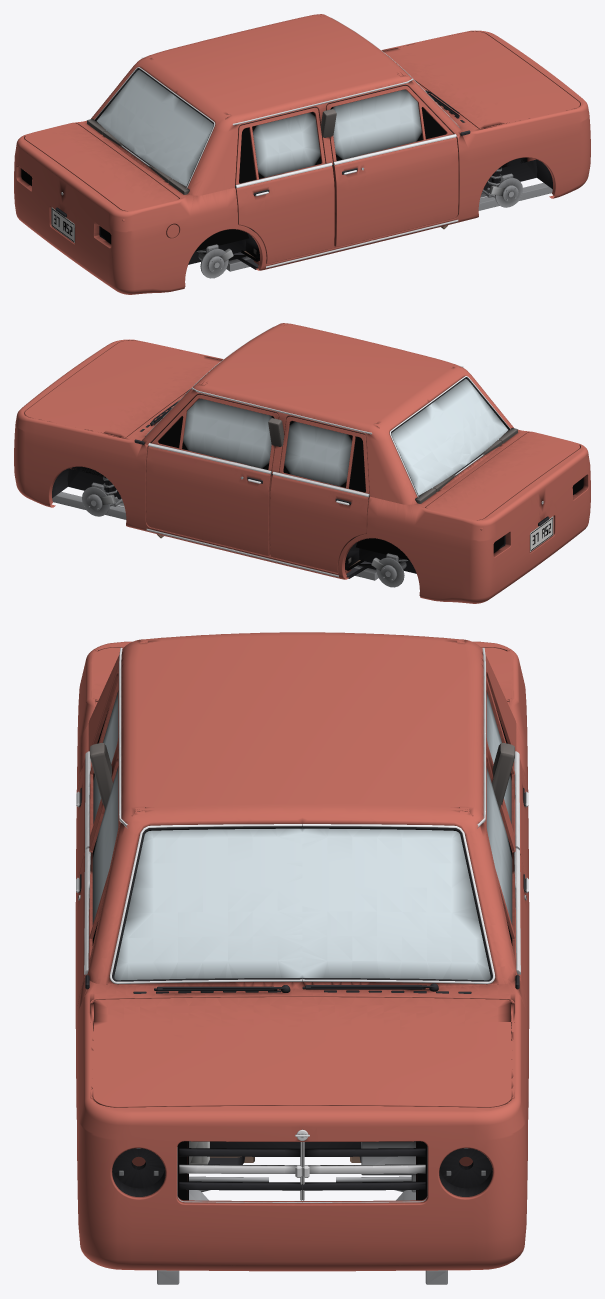
The model's file is sedan.glb.
3 views of the same model, one above another, from view 1: azimuth 30°, elevation 25°; view 2: azimuth 150°, elevation 25°; view 3: azimuth 270°, elevation 25° (orthographic). The views are drawn at different scales.
Parts seen in each view (by area): view 1: BODY, P_door_FR, P_hood, P_door_RR, GLASS, P_trunk, PG_door_FR, UNDER, PG_door_RR, INTERIOR; view 2: BODY, P_door_FL, P_hood, P_door_RL, GLASS, P_trunk, PG_door_FL, UNDER, PG_door_RL, INTERIOR; view 3: BODY, GLASS, P_hood, INTERIOR, P_door_FL, P_door_FR, P_door_RL, P_door_RR, UNDER, PG_door_FL, PG_door_FR, P_trunk (+2 smaller).
Boxes of the visible parts, <box> form: BODY: <box>14,14,590,294</box>; P_door_FR: <box>326,85,458,246</box>; P_hood: <box>382,31,579,128</box>; P_door_RR: <box>235,107,334,263</box>; GLASS: <box>96,70,213,186</box>; P_trunk: <box>24,123,178,210</box>; PG_door_FR: <box>330,89,446,160</box>; UNDER: <box>188,157,552,278</box>; PG_door_RR: <box>239,112,321,183</box>; INTERIOR: <box>87,109,447,261</box>; BODY: <box>14,323,590,603</box>; P_door_FL: <box>146,394,278,555</box>; P_hood: <box>25,340,222,437</box>; P_door_RL: <box>270,416,369,572</box>; GLASS: <box>391,379,508,495</box>; P_trunk: <box>426,432,580,519</box>; PG_door_FL: <box>158,398,274,469</box>; UNDER: <box>52,466,416,587</box>; PG_door_RL: <box>283,421,365,492</box>; INTERIOR: <box>157,418,517,570</box>; BODY: <box>76,632,528,1271</box>; GLASS: <box>114,826,490,980</box>; P_hood: <box>93,997,511,1107</box>; INTERIOR: <box>90,742,514,1162</box>; P_door_FL: <box>484,750,529,1047</box>; P_door_FR: <box>75,750,120,1047</box>; P_door_RL: <box>486,664,529,923</box>; P_door_RR: <box>75,664,118,923</box>; UNDER: <box>157,1144,447,1284</box>; PG_door_FL: <box>486,766,512,945</box>; PG_door_FR: <box>92,766,118,945</box>; P_trunk: <box>93,647,511,701</box>.
Size of the model in its own units: 4 by 1.29 by 1.62.
